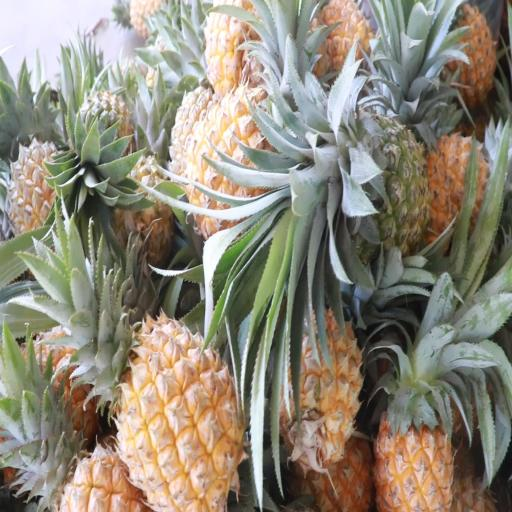Pineapple - v8 v1: (96, 296, 248, 511), (182, 80, 324, 238), (374, 295, 464, 512), (281, 298, 366, 472)
